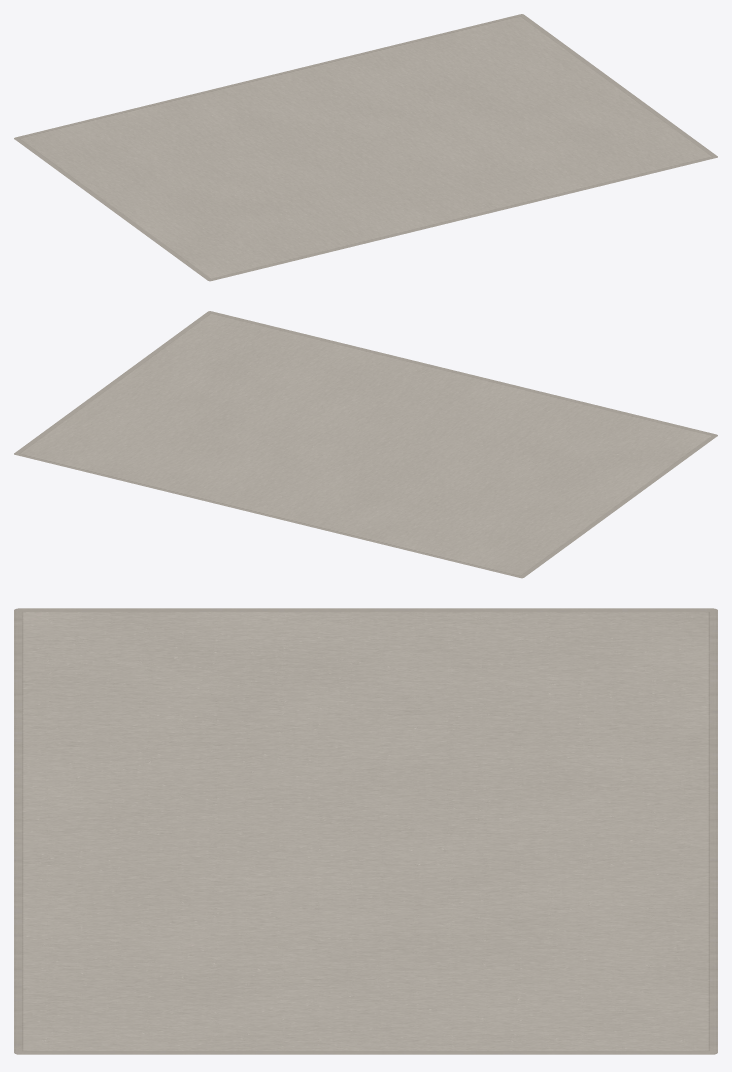
Rendered from beige_XL_r90.glb.
3 renders of one model, top to bottom at view 1: azimuth 30°, elevation 25°; view 2: azimuth 150°, elevation 25°; view 3: azimuth 270°, elevation 25°, orthographic. The views are drawn at different scales.
Visible parts, largest first — view 1: reliv_beige_XL_r90; view 2: reliv_beige_XL_r90; view 3: reliv_beige_XL_r90.
Part boxes in pixels (x1,y1,x2,y2): reliv_beige_XL_r90: (14,14,717,281); reliv_beige_XL_r90: (14,311,717,578); reliv_beige_XL_r90: (14,608,717,1054).
Size of the model in its own units: 3 by 0.009 by 2.
Materials: 2 (1 with a texture image).
